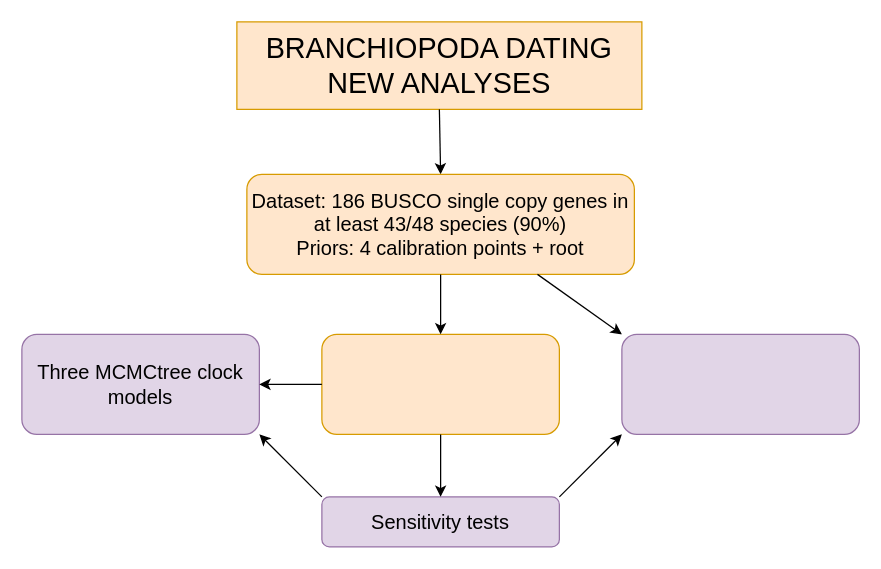
Some shapes in this 881 by 569 pixel diagram are drawn without their labels. The box of each missing label's shape, as (x1, y1, x2, y2) in pixels:
Amino acids dating: - lsd2 - MCMCtree: (621, 333, 859, 434)
Nucleotides dating: - lsd2 - MCMCtree: (321, 333, 559, 434)
